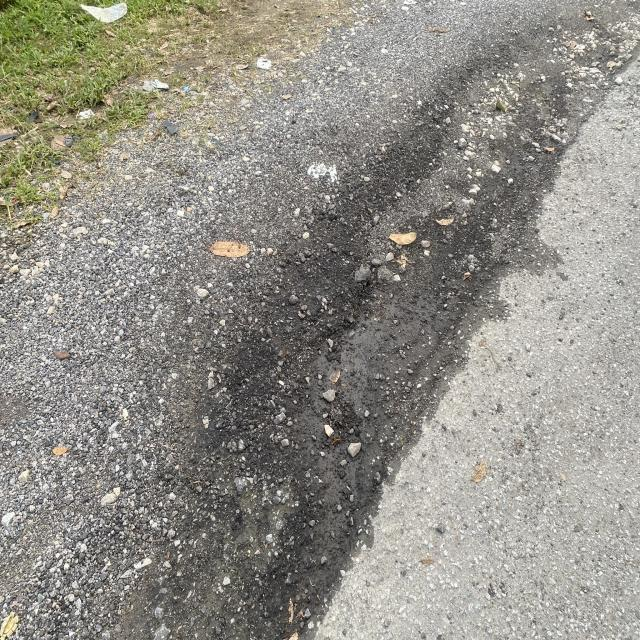Pothole: (257, 96, 551, 618)
